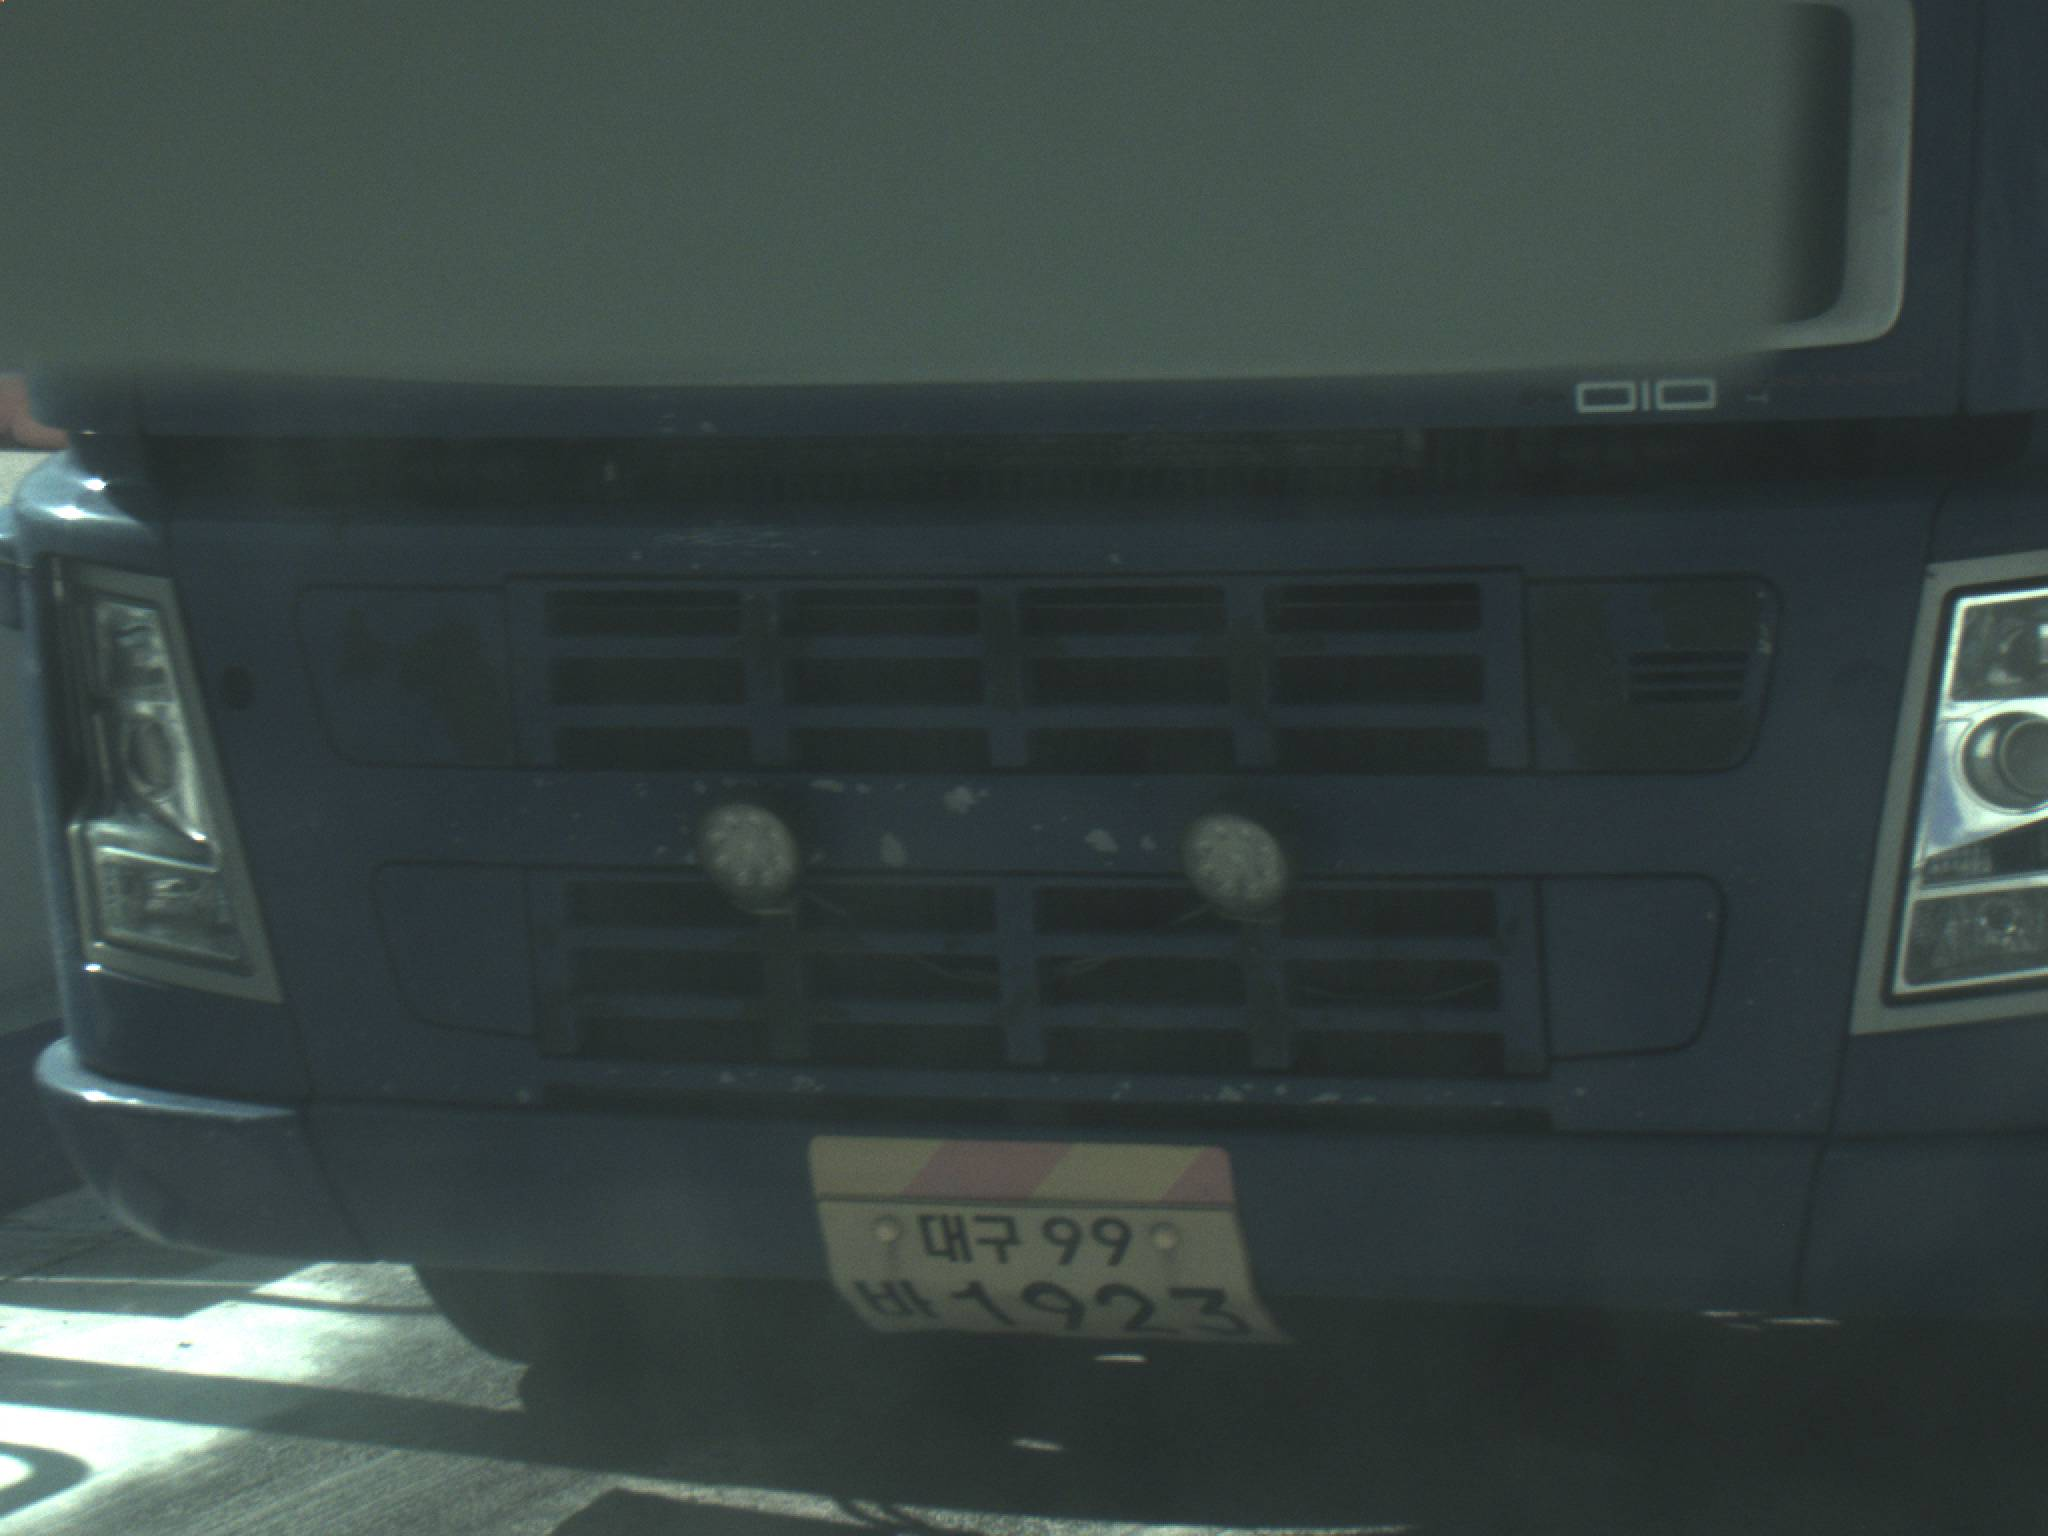car: (1, 1, 2046, 1417)
plate: (808, 1198, 1299, 1351)
